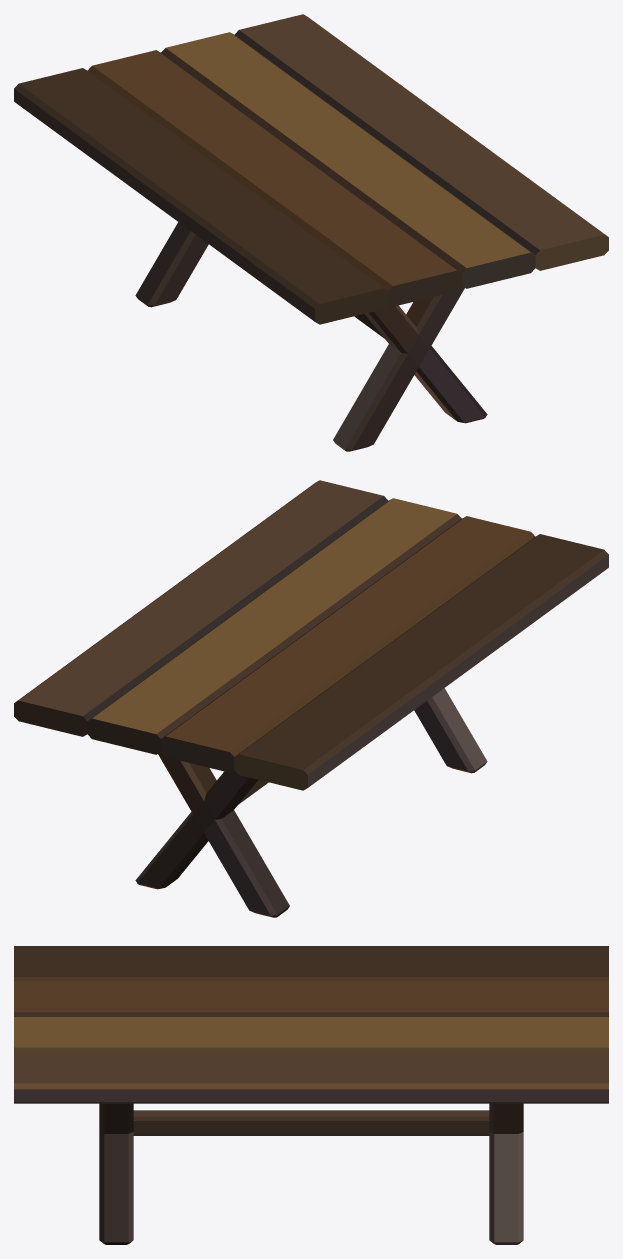
Rendered from Furniture_TableC.fbx.
The picture shows the model from 3 angles, top to bottom: view 1: azimuth 30°, elevation 25°; view 2: azimuth 150°, elevation 25°; view 3: azimuth 270°, elevation 25°; orthographic projection.
Parts seen in each view (by area): view 1: Furniture_TableC; view 2: Furniture_TableC; view 3: Furniture_TableC.
Part boxes in pixels (x1,y1,x2,y2): Furniture_TableC: [14, 14, 608, 451]; Furniture_TableC: [14, 480, 608, 917]; Furniture_TableC: [14, 946, 608, 1244].
Size of the model in its own units: 146 by 94.92 by 260.
